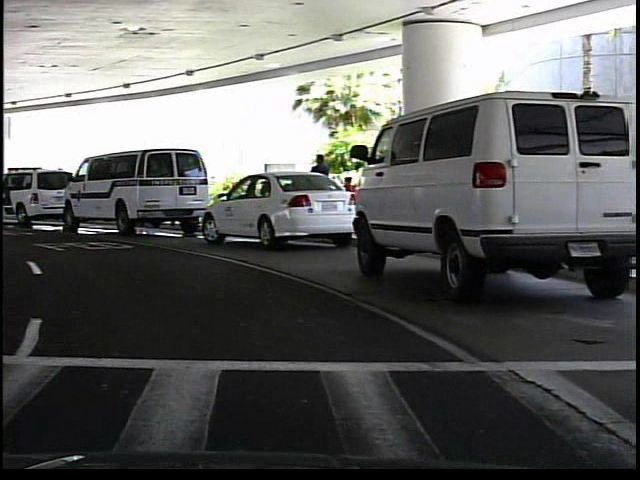person: (306, 150, 335, 227), (340, 175, 357, 229)
